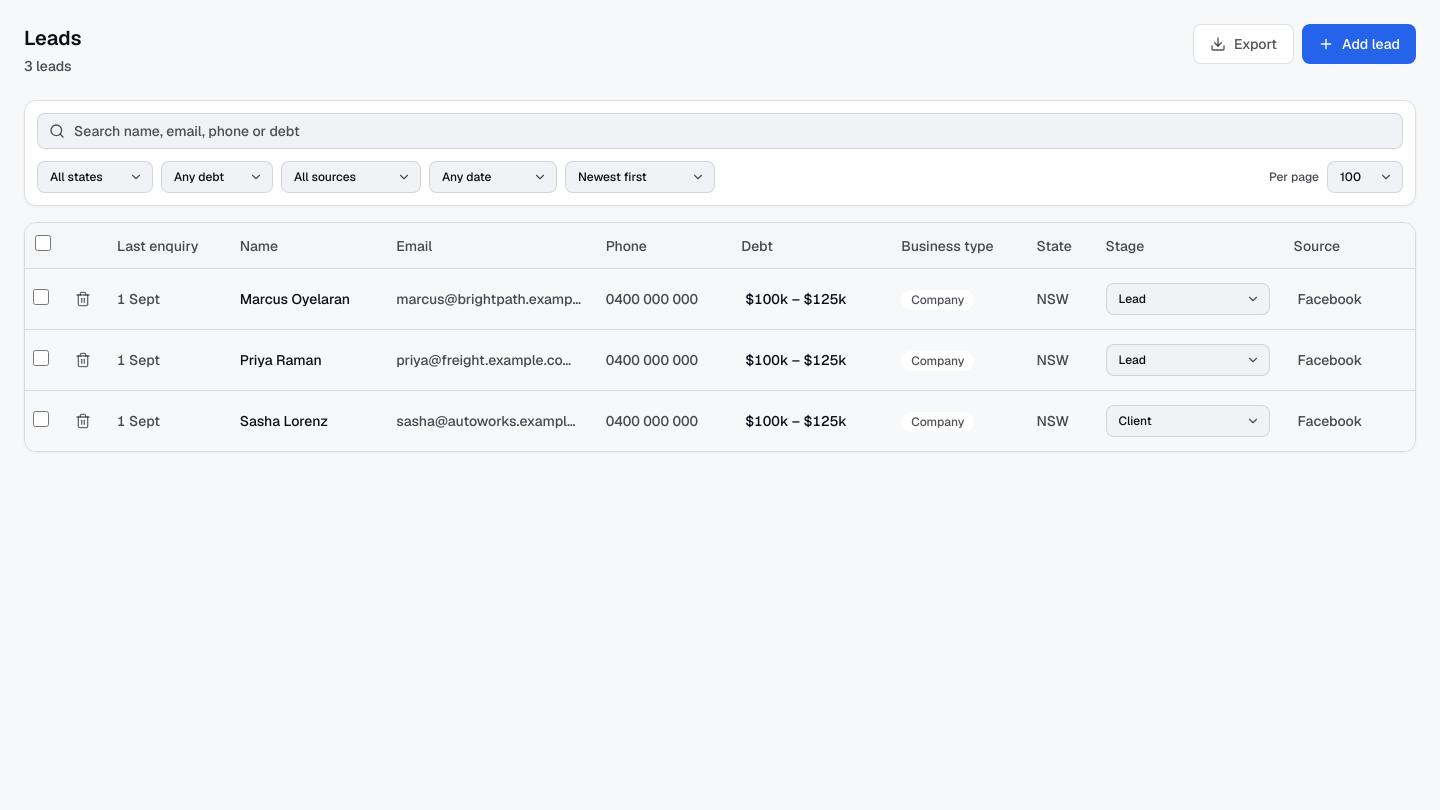
deleting from the list › leaves everything alone when cancelled
What coordinates should you click on to do the following:
click the button named "Delete Marcus Oyelaran"
I would click on:
 (83, 299)
Its box is 69,285 -> 97,313.
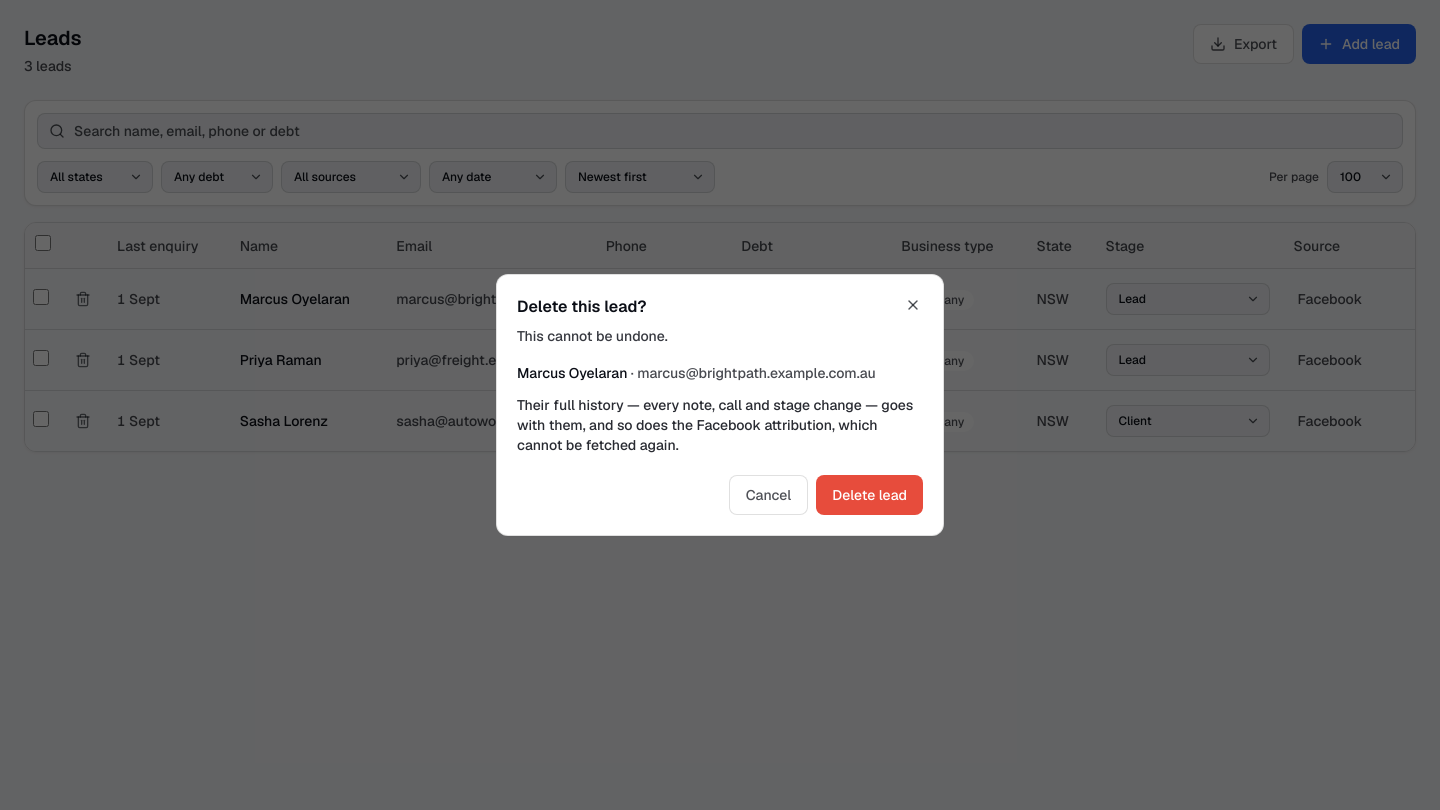
What coordinates should you click on to do the following:
click the button "Cancel"
I would click on:
 (768, 495)
Its box is 729,475 -> 808,515.
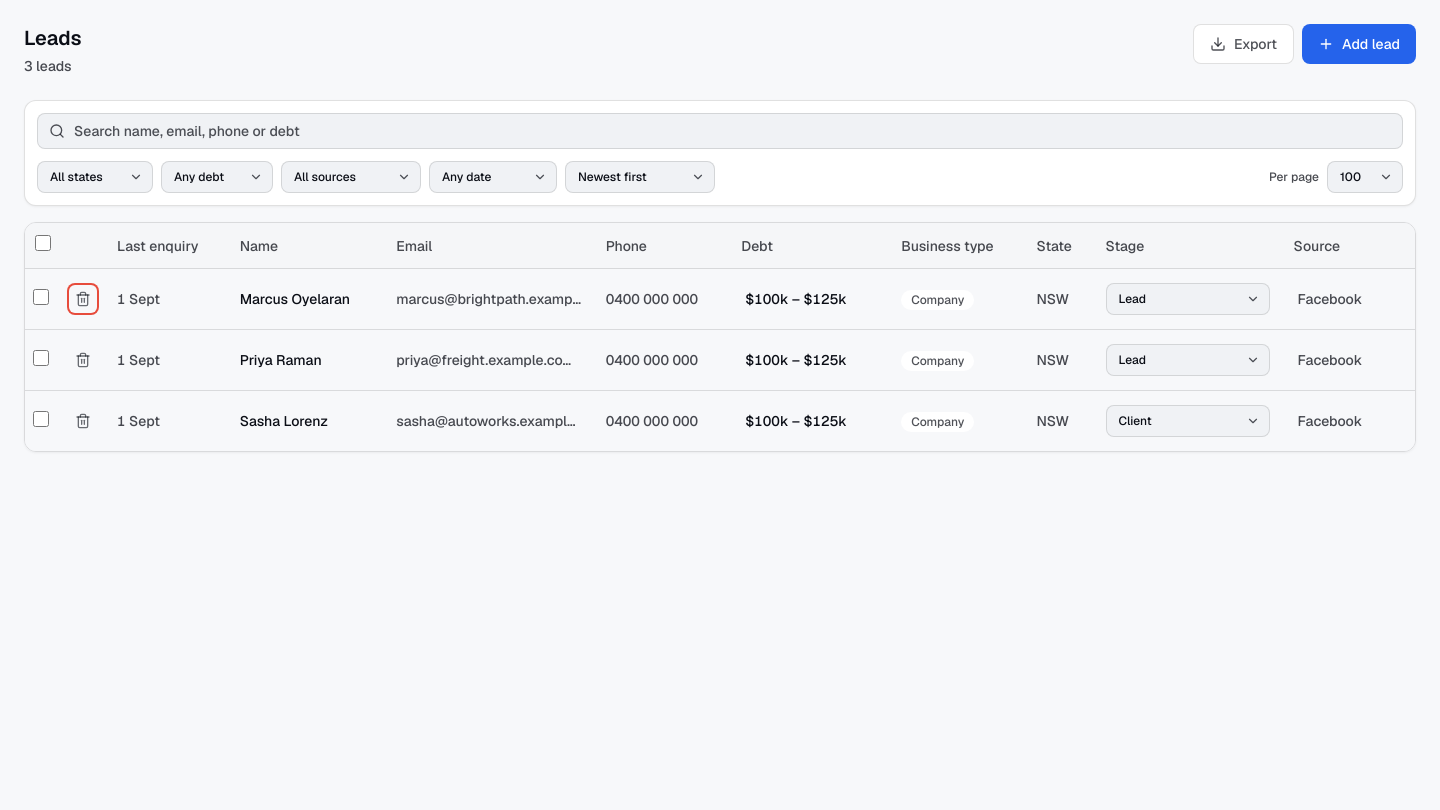
Expected: the dialog is gone
